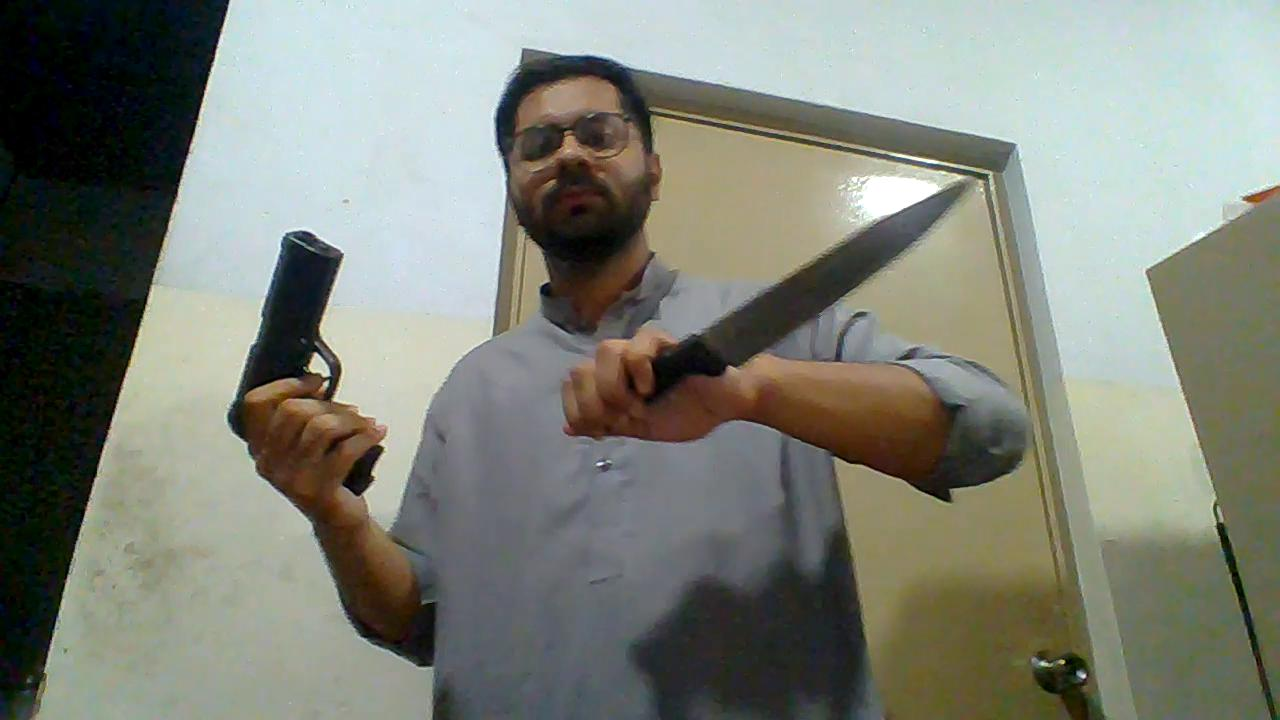criminal: (228, 52, 1030, 720)
weapon: (649, 170, 980, 395), (228, 229, 384, 498)
